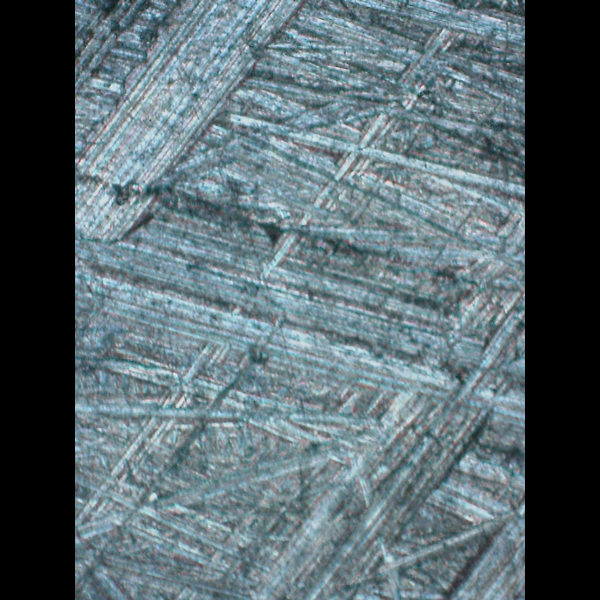d: (87, 273, 525, 476), (76, 0, 276, 256)
